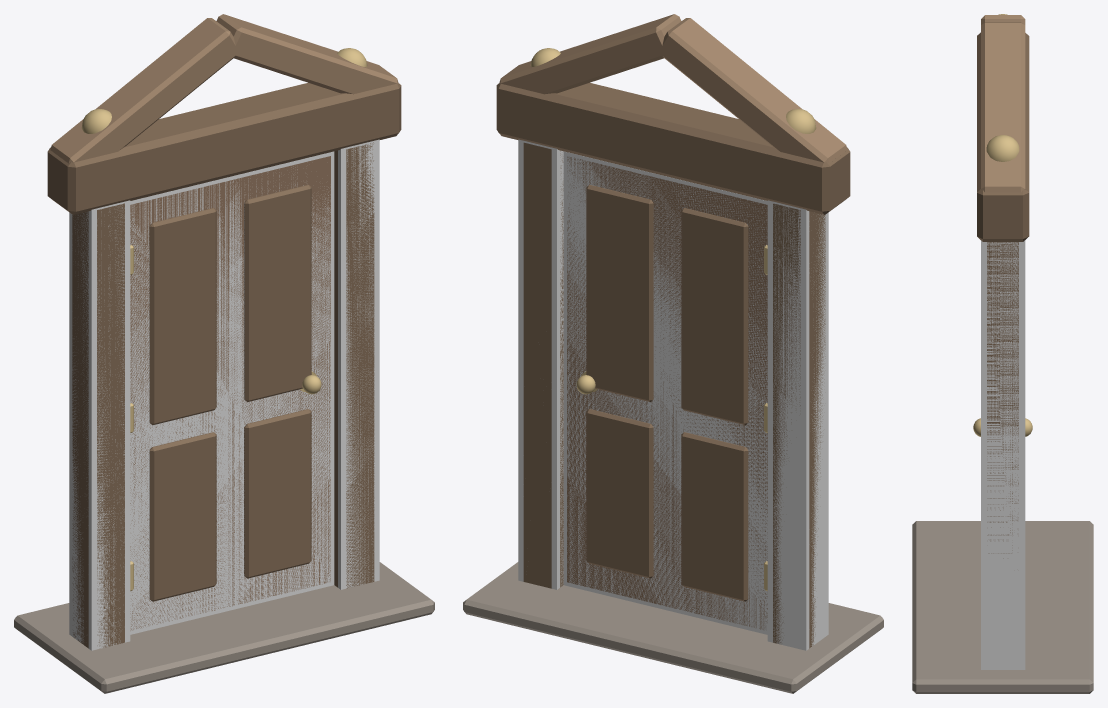
File: door.glb
3 renders of one model, left to right at view 1: azimuth 30°, elevation 25°; view 2: azimuth 150°, elevation 25°; view 3: azimuth 270°, elevation 25°, orthographic.
Parts seen in each view (by area): view 1: cuboid_doorLeaf, doorLeaf, doorLintel, doorThreshold, doorPostL, doorPostR, doorLeafPanelB01, doorLeafPanelB11, cuboid_doorPostL, cuboid_doorPostR, doorLeafPanelB00, doorLeafPanelB10 (+2 smaller); view 2: cuboid_doorLeaf, doorLeaf, cuboid_doorPostL, doorLintel, doorThreshold, doorPostR, doorLeafPanelF01, doorLeafPanelF11, doorPostL, doorLeafPanelF00, doorLeafPanelF10, doorCapL (+2 smaller); view 3: doorThreshold, cuboid_doorPostR, doorCapR, doorPostR, doorLintel, doorOrbR, doorCapL.
Boxes of the visible parts, x1,y1,x2,y2 form: cuboid_doorLeaf: (130, 151, 334, 634); doorLeaf: (130, 156, 330, 630); doorLintel: (47, 82, 401, 214); doorThreshold: (14, 562, 434, 693); doorPostL: (72, 203, 124, 648); doorPostR: (334, 142, 374, 588); doorLeafPanelB01: (149, 208, 216, 425); doorLeafPanelB11: (244, 184, 311, 401); cuboid_doorPostL: (69, 200, 130, 650); cuboid_doorPostR: (338, 139, 379, 589); doorLeafPanelB00: (149, 432, 216, 601); doorLeafPanelB10: (244, 409, 311, 578); cuboid_doorLeaf: (563, 151, 767, 634); doorLeaf: (567, 156, 767, 629); cuboid_doorPostL: (767, 200, 828, 650); doorLintel: (496, 82, 850, 214); doorThreshold: (463, 562, 883, 693); doorPostR: (523, 142, 563, 588); doorLeafPanelF01: (681, 208, 748, 425); doorLeafPanelF11: (586, 184, 653, 401); doorPostL: (773, 203, 825, 648); doorLeafPanelF00: (681, 432, 748, 601); doorLeafPanelF10: (586, 409, 653, 578); doorCapL: (658, 18, 847, 163); doorThreshold: (912, 521, 1093, 693); cuboid_doorPostR: (981, 240, 1025, 669); doorCapR: (981, 22, 1025, 192); doorPostR: (987, 242, 1018, 558); doorLintel: (977, 32, 1029, 241); doorOrbR: (986, 135, 1019, 161); doorCapL: (981, 15, 1025, 24).
Bounding box in the file's own units: 1.9 × 3.26 × 0.9001.
